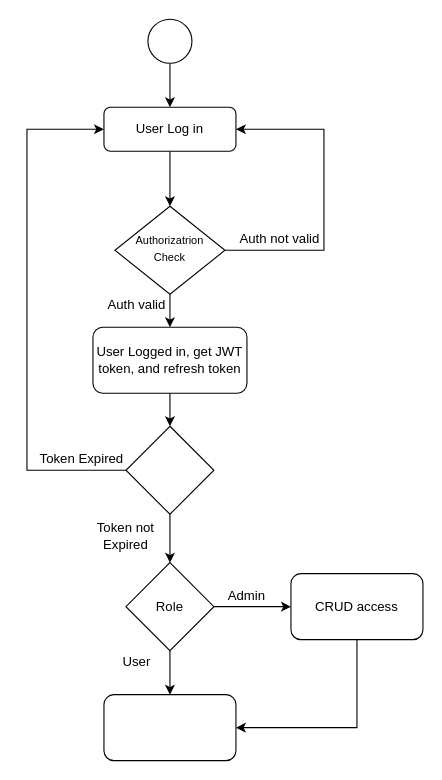
This 442x780 diagram has some shape labels left out. The centre of each missing label's shape, as x and y in pixels:
Get access to User's feature (read-only): the point at 169,727
JWT Token: the point at 169,469
